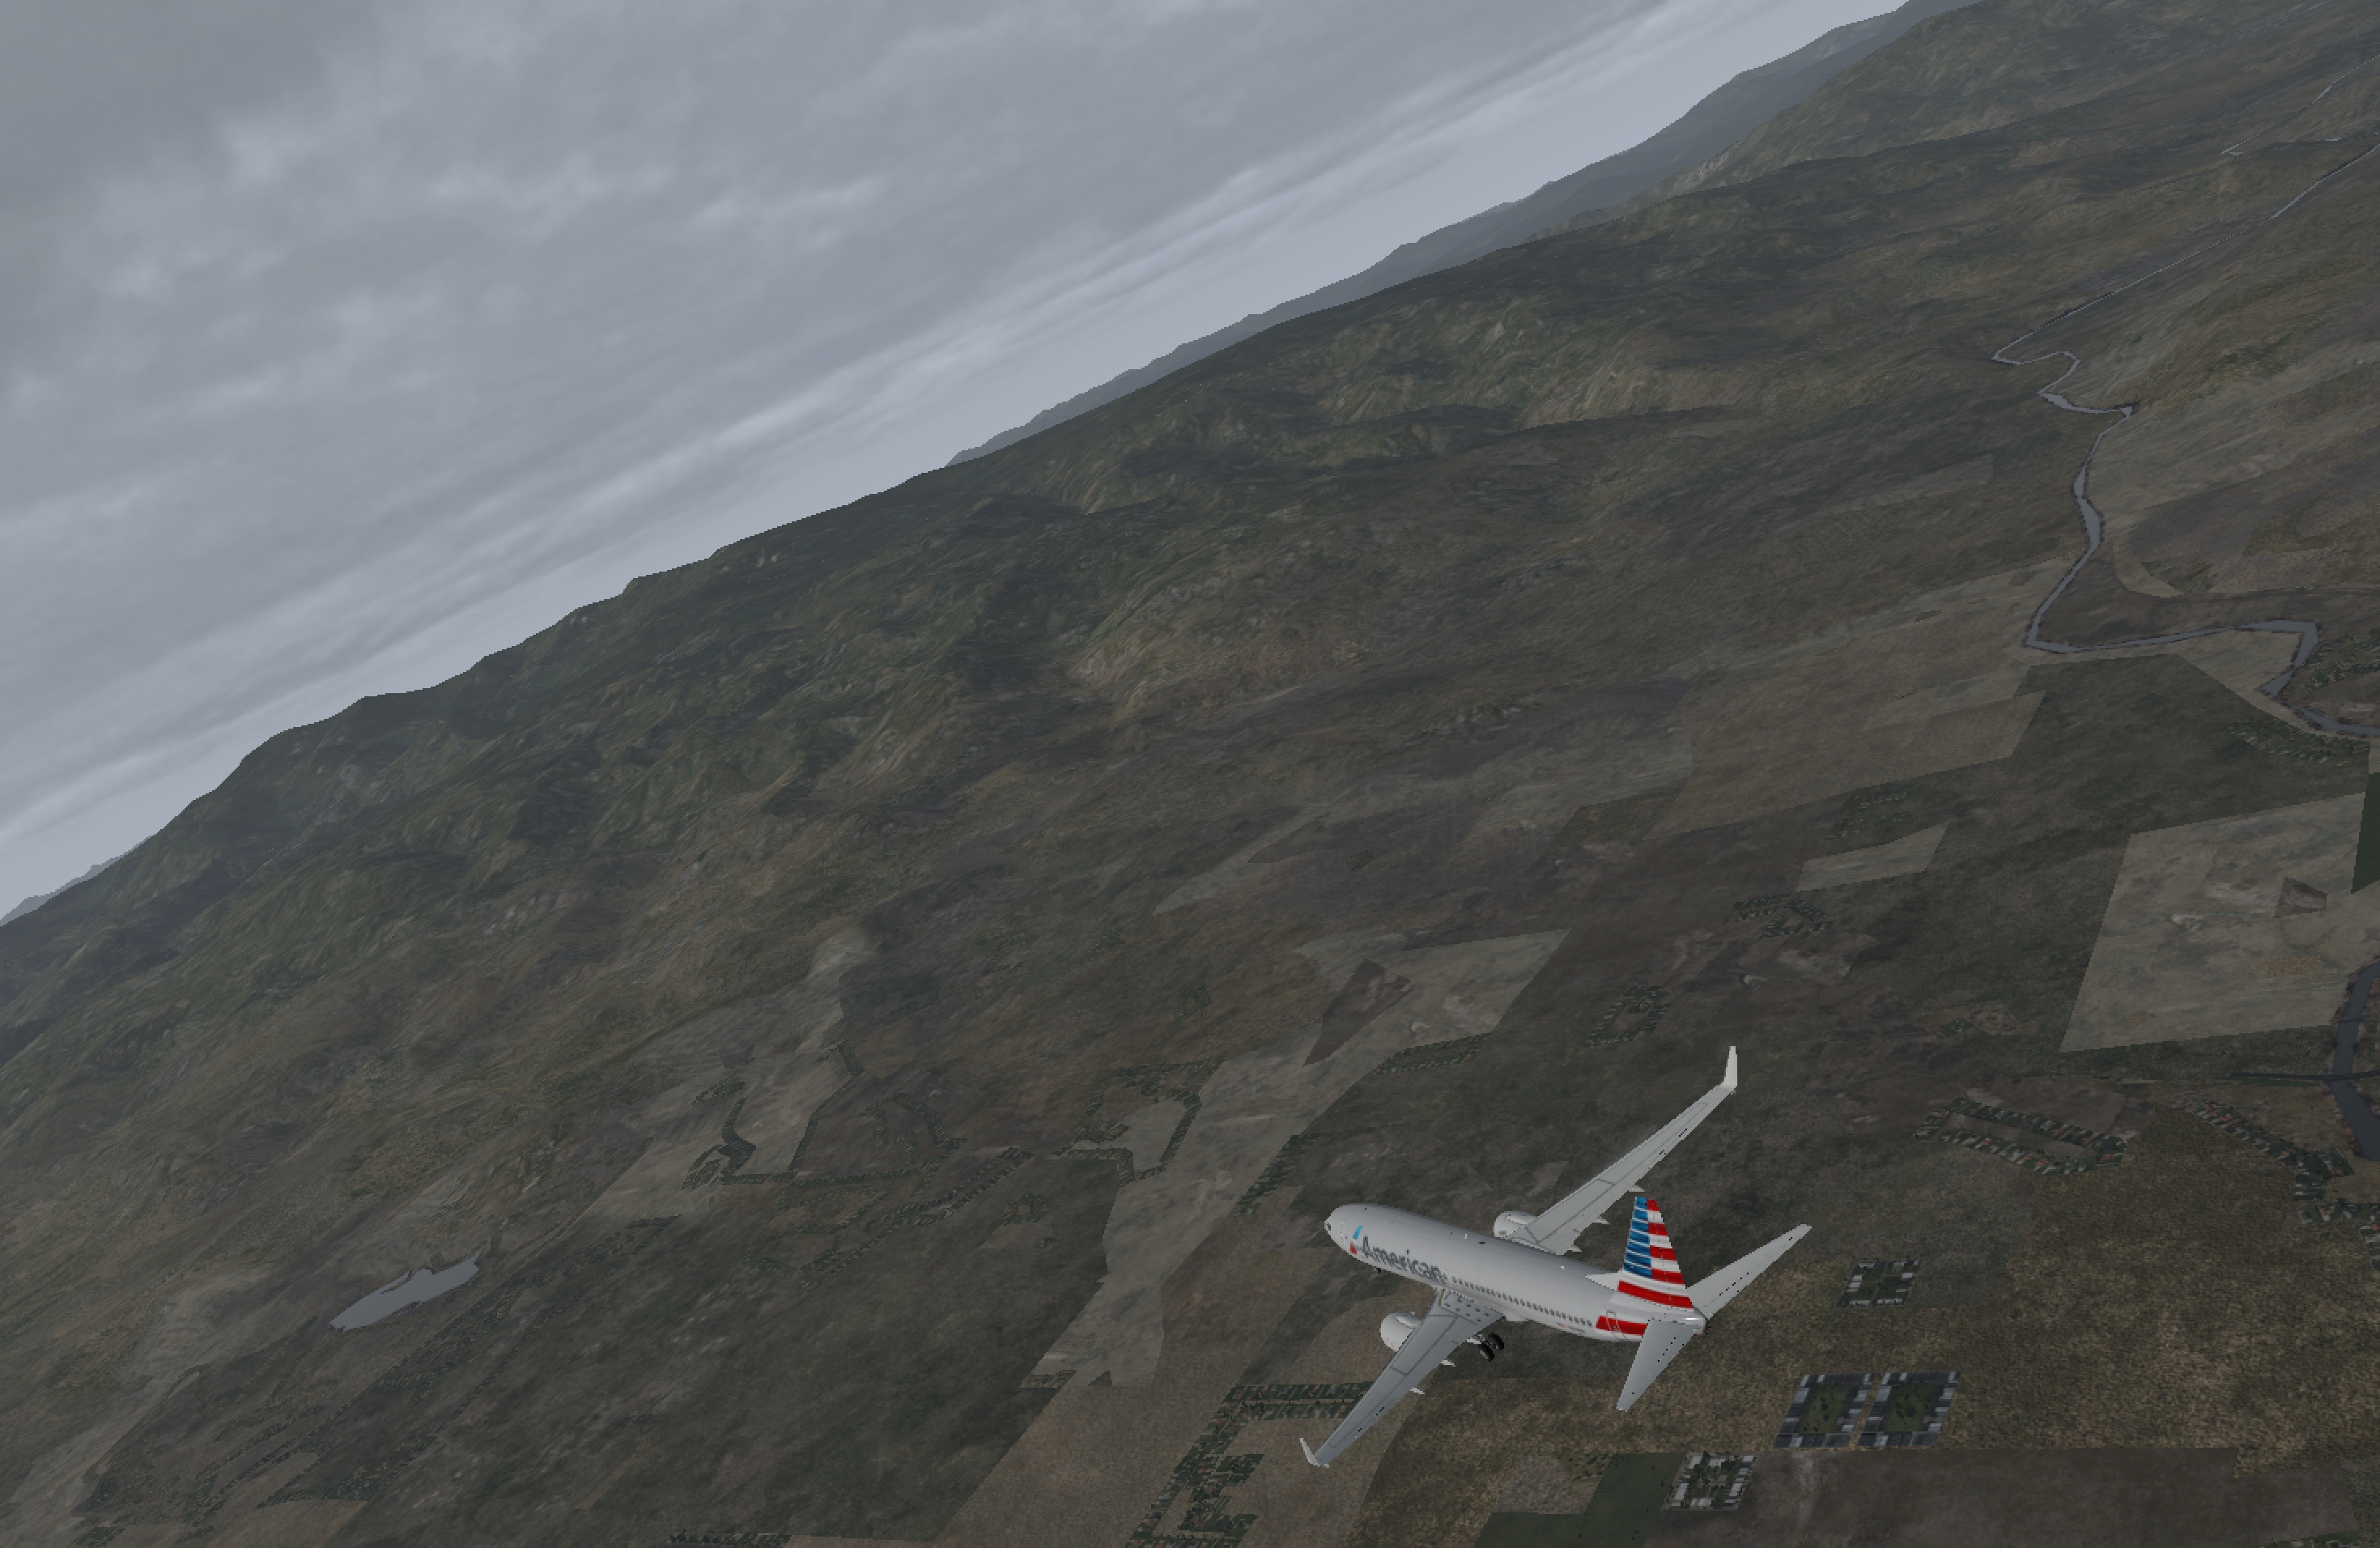aircraft: (1167, 1156, 1814, 1399)
